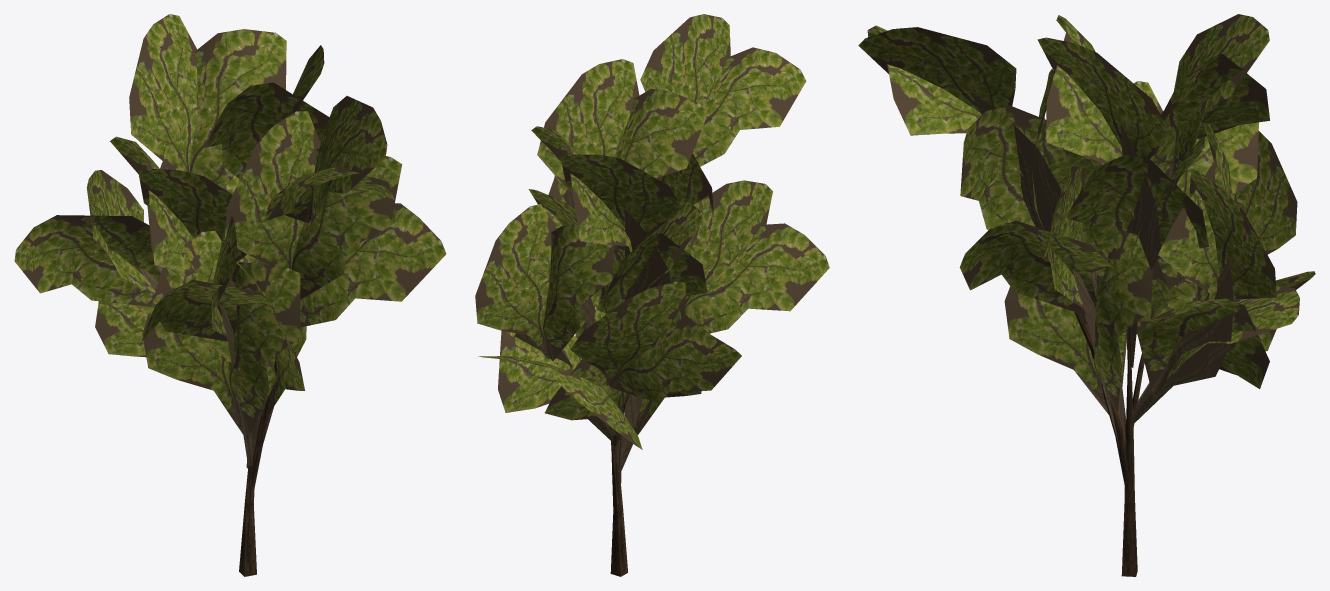
The model's file is bush_01.obj.
3 views of the same model, side by side, from view 1: azimuth 30°, elevation 25°; view 2: azimuth 150°, elevation 25°; view 3: azimuth 270°, elevation 25° (orthographic). The views are drawn at different scales.
Visible parts, largest first — view 1: Bush_01; view 2: Bush_01; view 3: Bush_01.
Part boxes in pixels (x1,y1,x2,y2): Bush_01: (14, 14, 446, 576); Bush_01: (475, 14, 829, 576); Bush_01: (858, 14, 1315, 576).
Bounding box in the file's own units: 2.01 × 3.4 × 2.52.
1 material, 1 textured.
